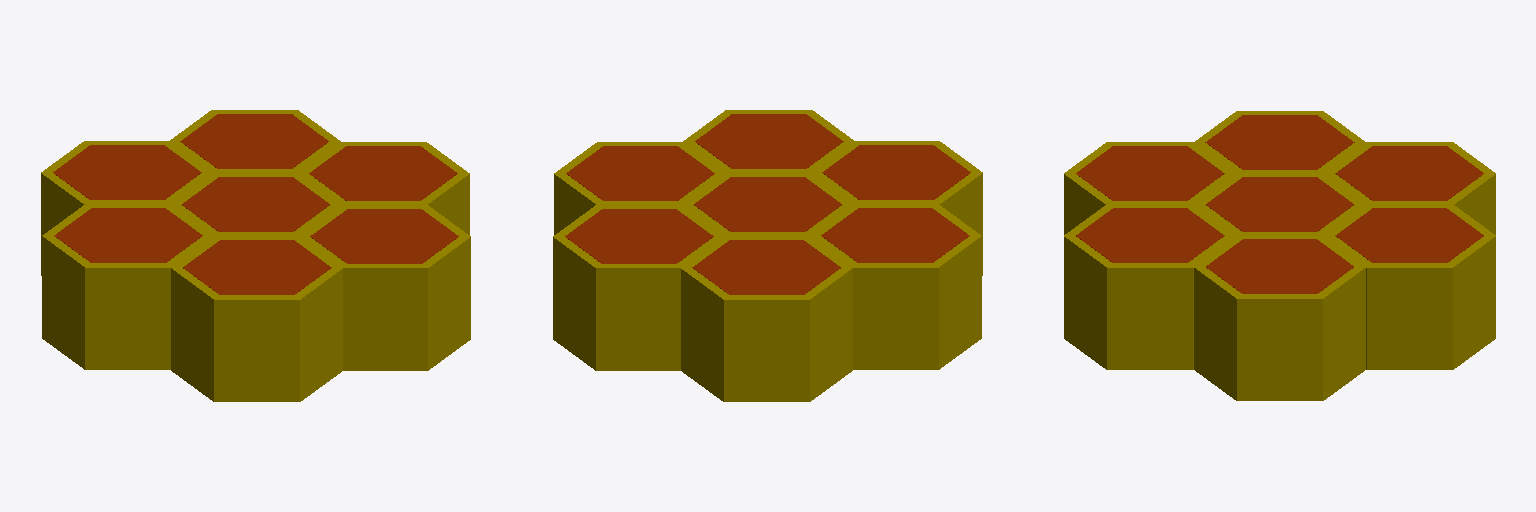
The picture shows the model from 3 angles: view 1: azimuth 30°, elevation 25°; view 2: azimuth 150°, elevation 25°; view 3: azimuth 270°, elevation 25°; orthographic projection.
Size of the model in its own units: 2.57 by 0.6548 by 2.5.
2 materials, 2 textured.